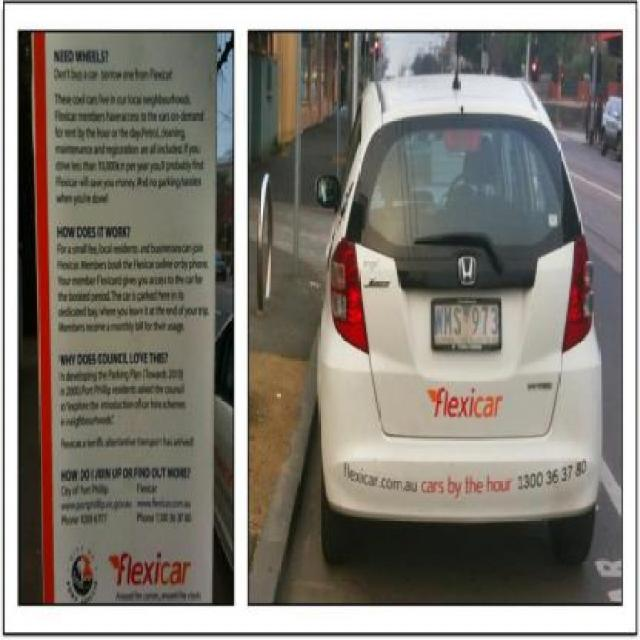License-Plates: (430, 298, 502, 353)
